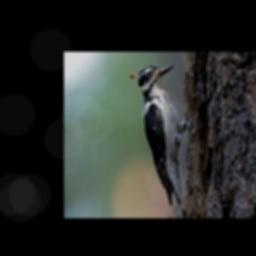Woodpecker: (129, 64, 190, 212)
